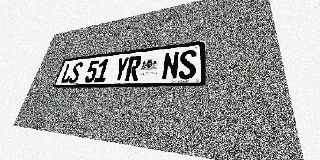1: (94, 59, 110, 82)
5: (84, 60, 100, 83)
L: (60, 63, 75, 83)
N: (161, 51, 179, 80)
R: (125, 55, 142, 81)
S: (178, 49, 197, 80), (68, 62, 84, 83)
Y: (112, 57, 129, 82)
